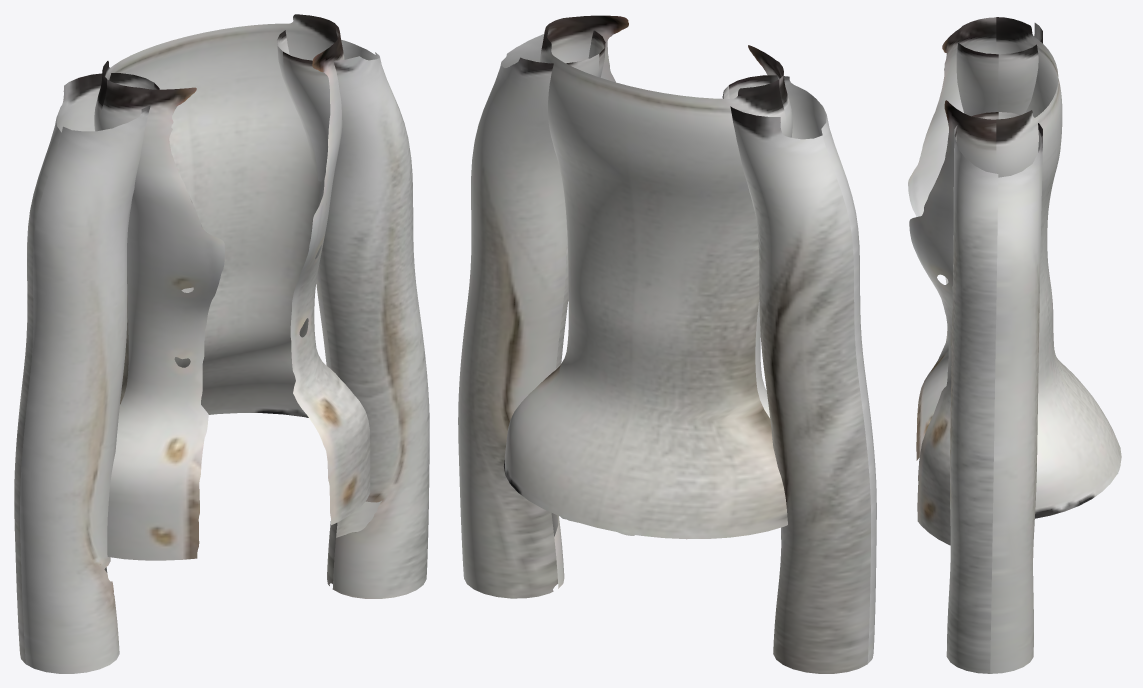
Rendered from prod-ae-ivory-tweed-blazer.glb.
3 renders of one model, left to right at view 1: azimuth 30°, elevation 25°; view 2: azimuth 150°, elevation 25°; view 3: azimuth 270°, elevation 25°, orthographic. The views are drawn at different scales.
Visible parts, largest first — view 1: prod-ae-ivory-tweed-blazer; view 2: prod-ae-ivory-tweed-blazer; view 3: prod-ae-ivory-tweed-blazer.
Part boxes in pixels (x1,y1,x2,y2): prod-ae-ivory-tweed-blazer: (14,14,429,673); prod-ae-ivory-tweed-blazer: (458,15,876,673); prod-ae-ivory-tweed-blazer: (908,17,1121,673).
Bounding box in the file's own units: 0.4255 × 0.566 × 0.2214.
1 material, 1 textured.
